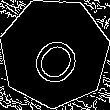O_NE: (22, 19, 86, 86)
